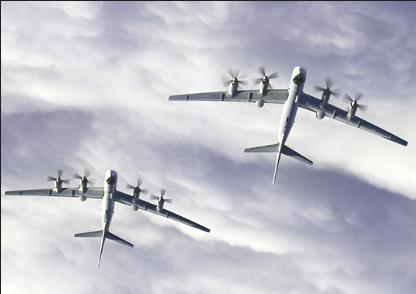Su57: (166, 65, 406, 187), (2, 168, 209, 268)
